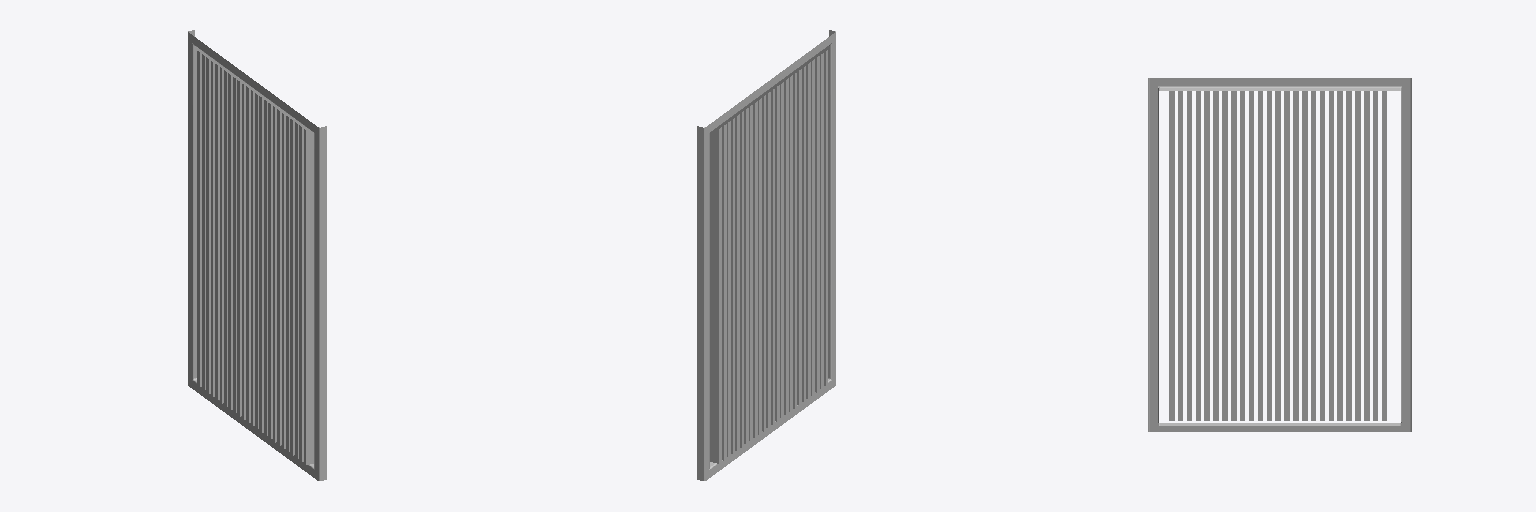
The model's file is DecoHallRIGHT.obj.
3 renders of one model, left to right at view 1: azimuth 30°, elevation 25°; view 2: azimuth 150°, elevation 25°; view 3: azimuth 270°, elevation 25°, orthographic.
Parts seen in each view (by area): view 1: DecoWallsWoods.001_Plane.001, DecoWallFrame.001_Plane.002; view 2: DecoWallsWoods.001_Plane.001, DecoWallFrame.001_Plane.002; view 3: DecoWallsWoods.001_Plane.001, DecoWallFrame.001_Plane.002.
Boxes of the visible parts, <box> form: DecoWallsWoods.001_Plane.001: <box>197,50,313,464</box>; DecoWallFrame.001_Plane.002: <box>188,30,326,480</box>; DecoWallsWoods.001_Plane.001: <box>710,48,827,463</box>; DecoWallFrame.001_Plane.002: <box>697,30,835,480</box>; DecoWallsWoods.001_Plane.001: <box>1169,91,1386,420</box>; DecoWallFrame.001_Plane.002: <box>1148,78,1411,431</box>.
Size of the model in its own units: 0.0887 by 3 by 2.02.